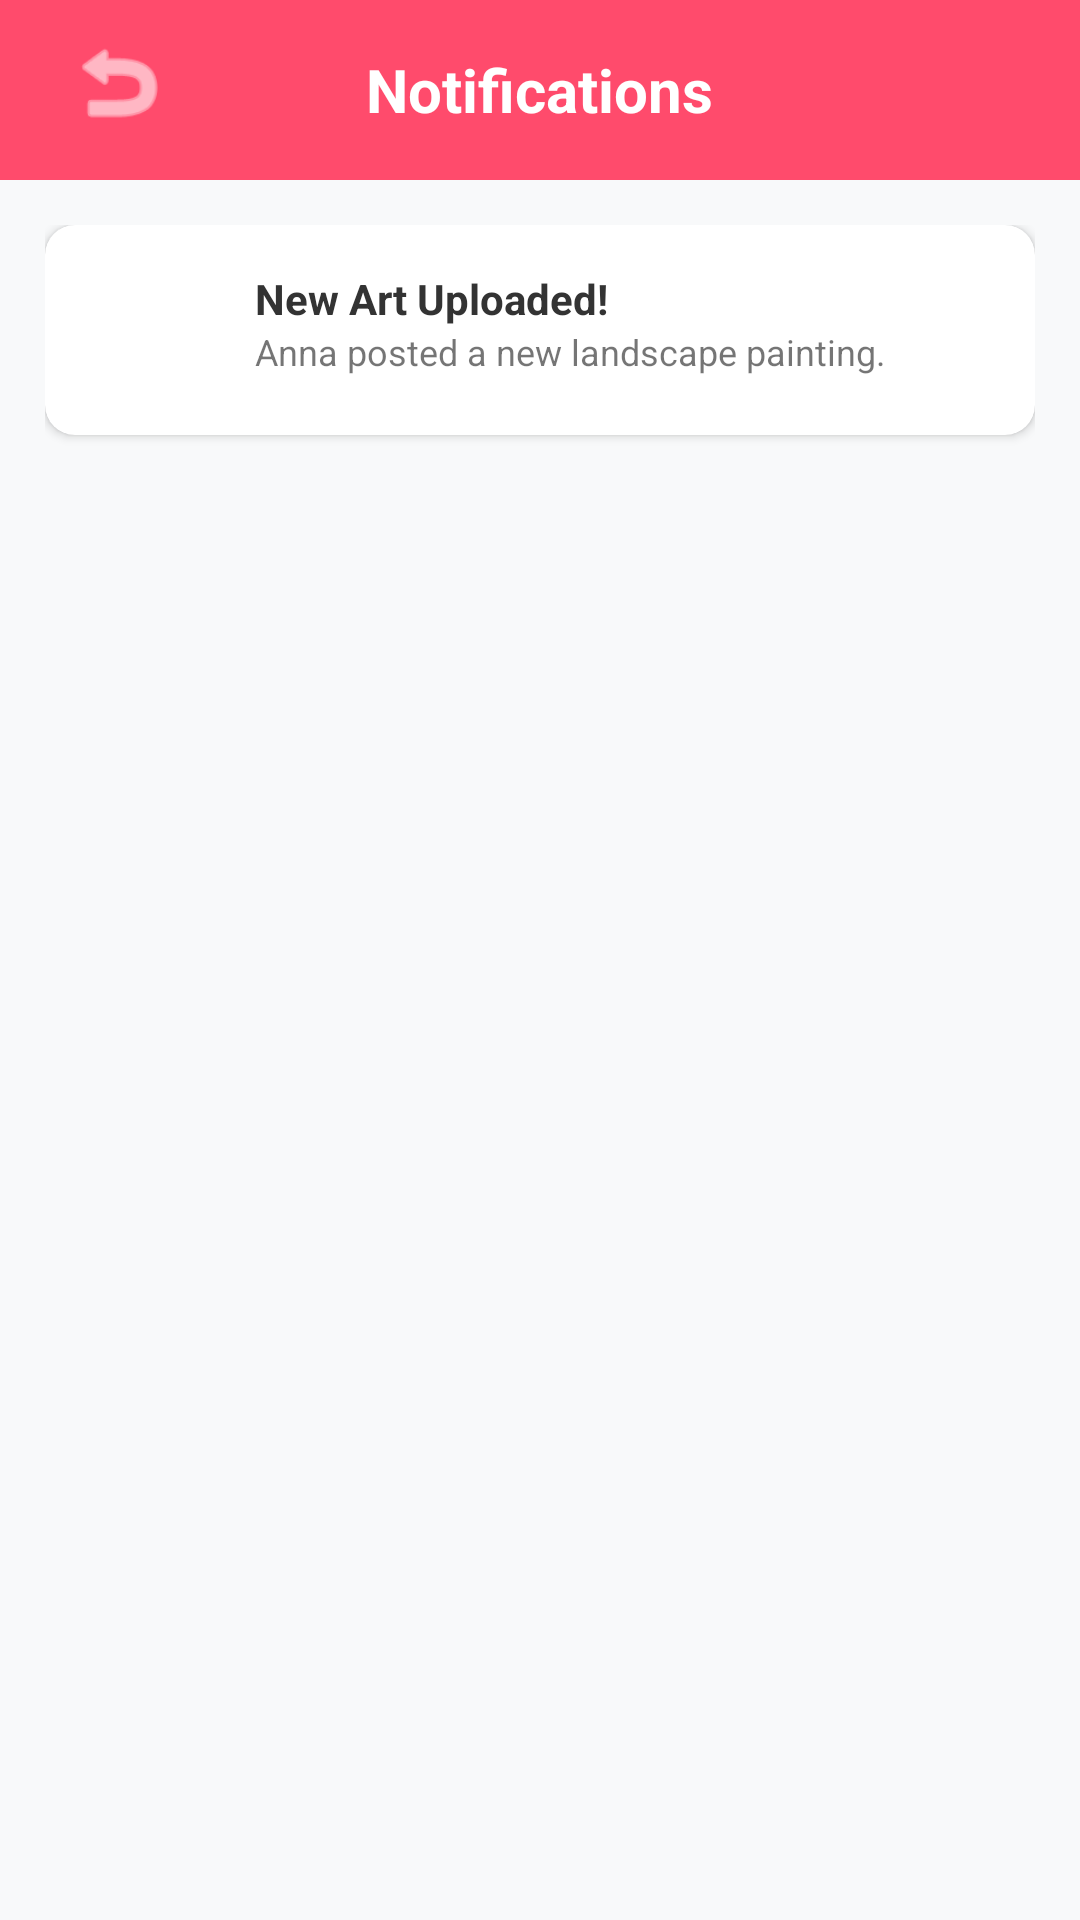

Icon bounding boxes for this 1080w x 1920h phone screenshot, format [x1=x1, y1=y1, x2=x2, y2=y2]:
revert: [x1=82, y1=49, x2=158, y2=117]
